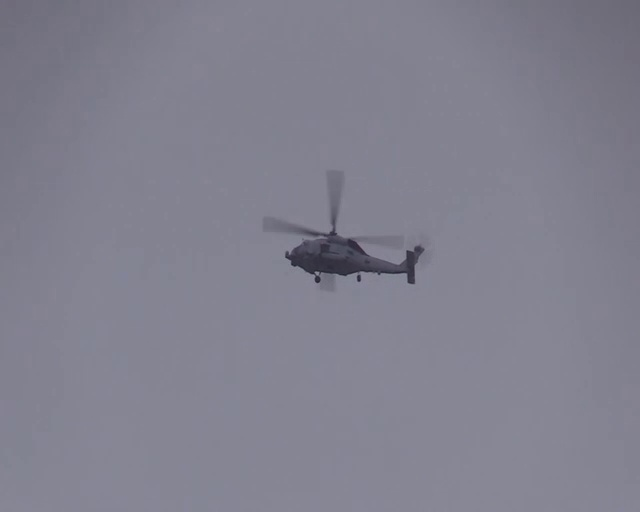HELICOPTER: (263, 169, 427, 284)
